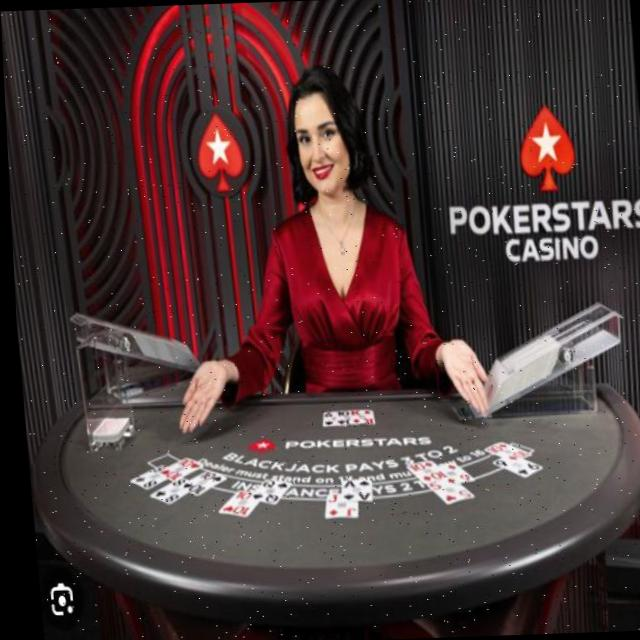Card-10: (214, 489, 253, 518), (177, 470, 220, 495), (156, 456, 197, 481), (402, 459, 440, 484), (478, 441, 526, 460), (333, 410, 345, 424)
Card-5: (422, 480, 468, 502)
Card-6: (434, 462, 470, 485)
Card-8: (143, 478, 183, 507), (125, 464, 162, 490)
Card-9: (486, 457, 537, 478)
Card-A: (337, 480, 367, 501), (318, 409, 332, 425)
Card-J: (319, 494, 352, 518)
Card-K: (345, 409, 371, 423)
Card-Q: (247, 479, 286, 504)
